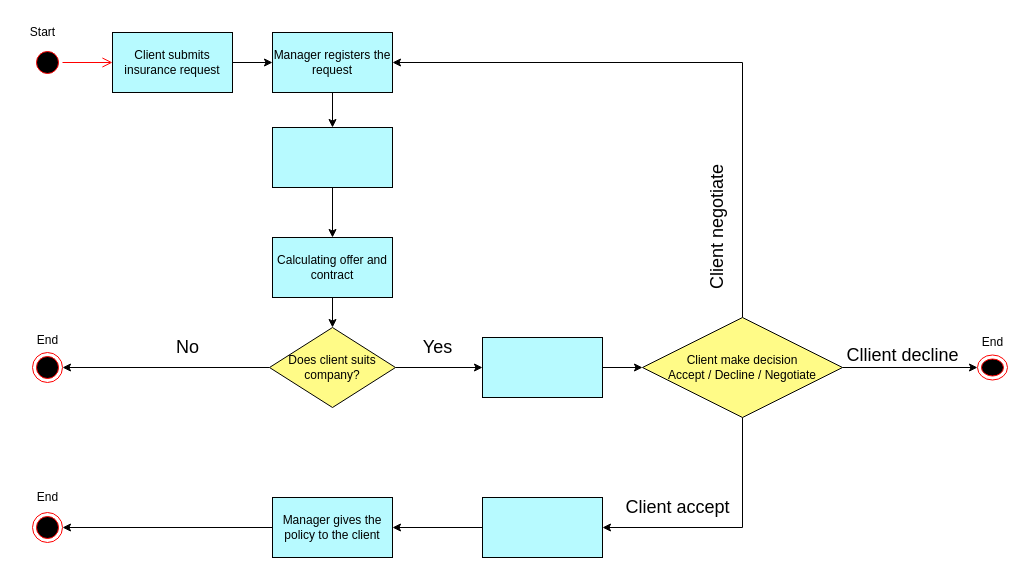
The diagram is 1029 pixels wide and 575 high, and some of its shapes have lost their labels. The centre of each missing label's shape, as x and y in pixels:
Client pays for the policy: the point at 542,527
Manager shows offer to the client: the point at 542,367
Underwriter make analysing of the client's history and risks: the point at 332,157
